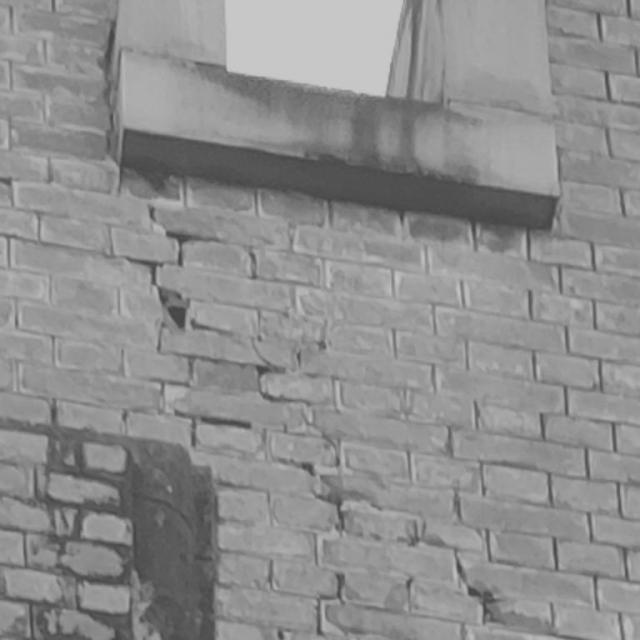crack: (97, 19, 505, 628)
